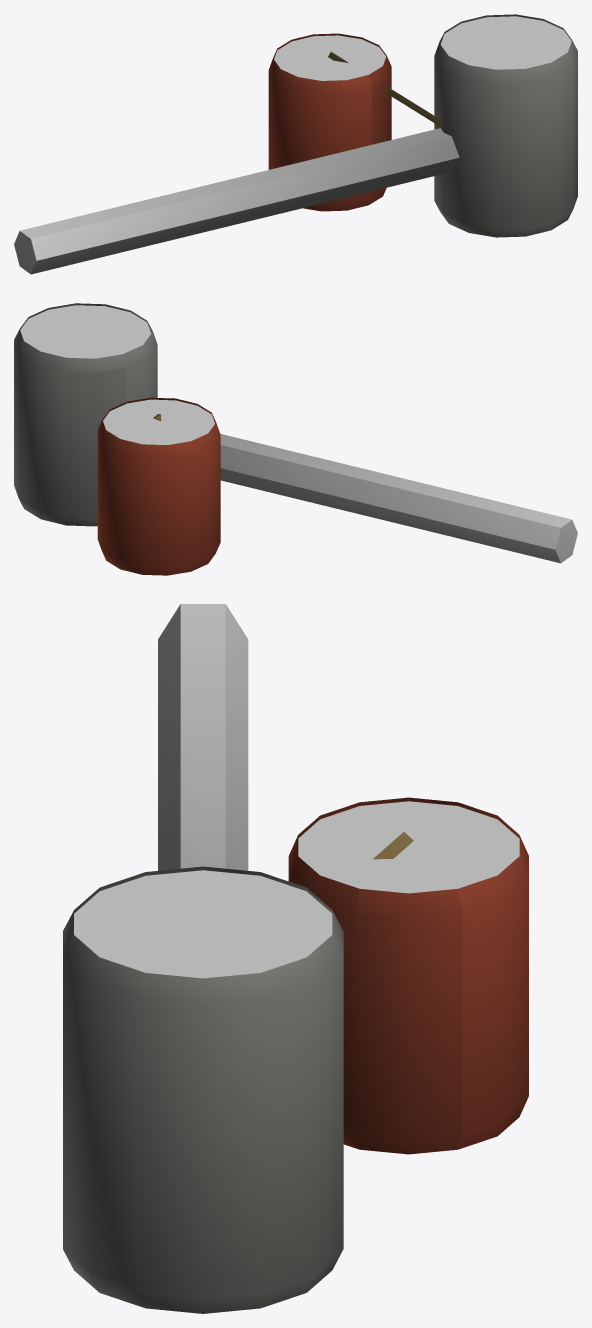
File: espantador.glb
3 views of the same model, one above another, from view 1: azimuth 30°, elevation 25°; view 2: azimuth 150°, elevation 25°; view 3: azimuth 270°, elevation 25° (orthographic). The views are drawn at different scales.
Visible parts, largest first — view 1: espantador; view 2: espantador; view 3: espantador.
Boxes of the visible parts, x1,y1,x2,y2 form: espantador: (14,14,577,274); espantador: (14,303,577,575); espantador: (63,604,528,1313).
Size of the model in its own units: 0.305 by 0.09 by 0.1134.
